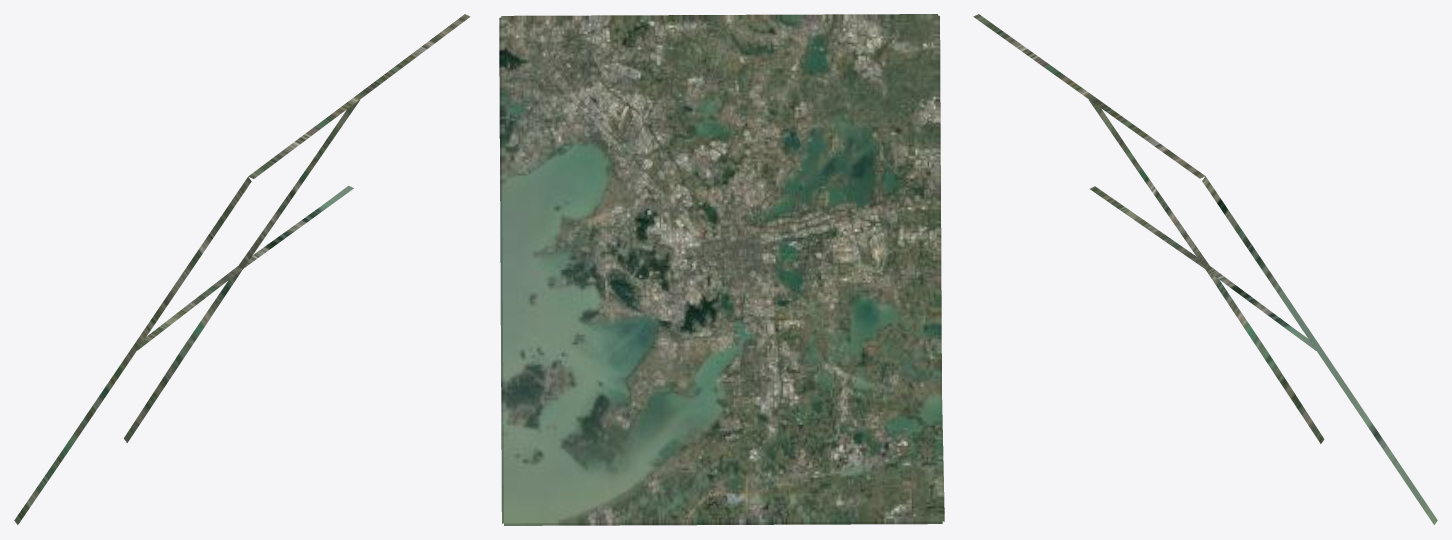
3 views of the same model, side by side, from view 1: azimuth 30°, elevation 25°; view 2: azimuth 150°, elevation 25°; view 3: azimuth 270°, elevation 25° (orthographic). The views are drawn at different scales.
Bounding box in the file's own units: 79486 × 67683 × 70052.
Materials: 1 (1 with a texture image).
